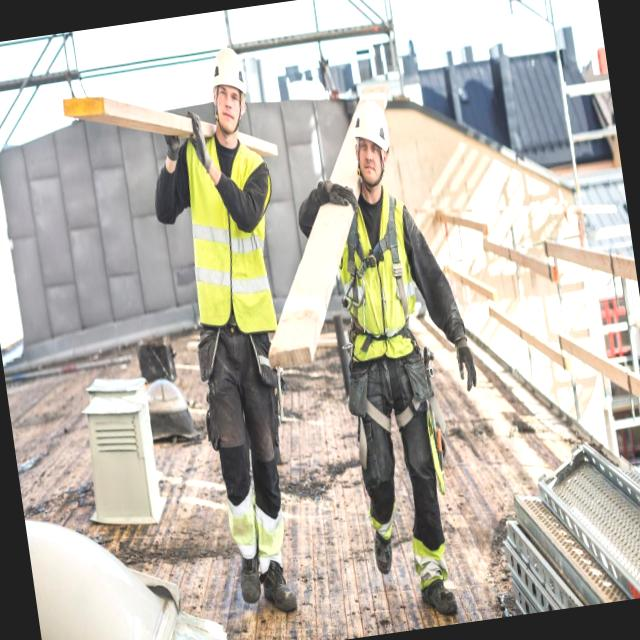helmet: (346, 94, 398, 156), (203, 49, 250, 104)
no-goggles: (352, 136, 389, 168), (212, 86, 244, 113)
vest: (161, 126, 287, 340), (324, 193, 430, 382)
